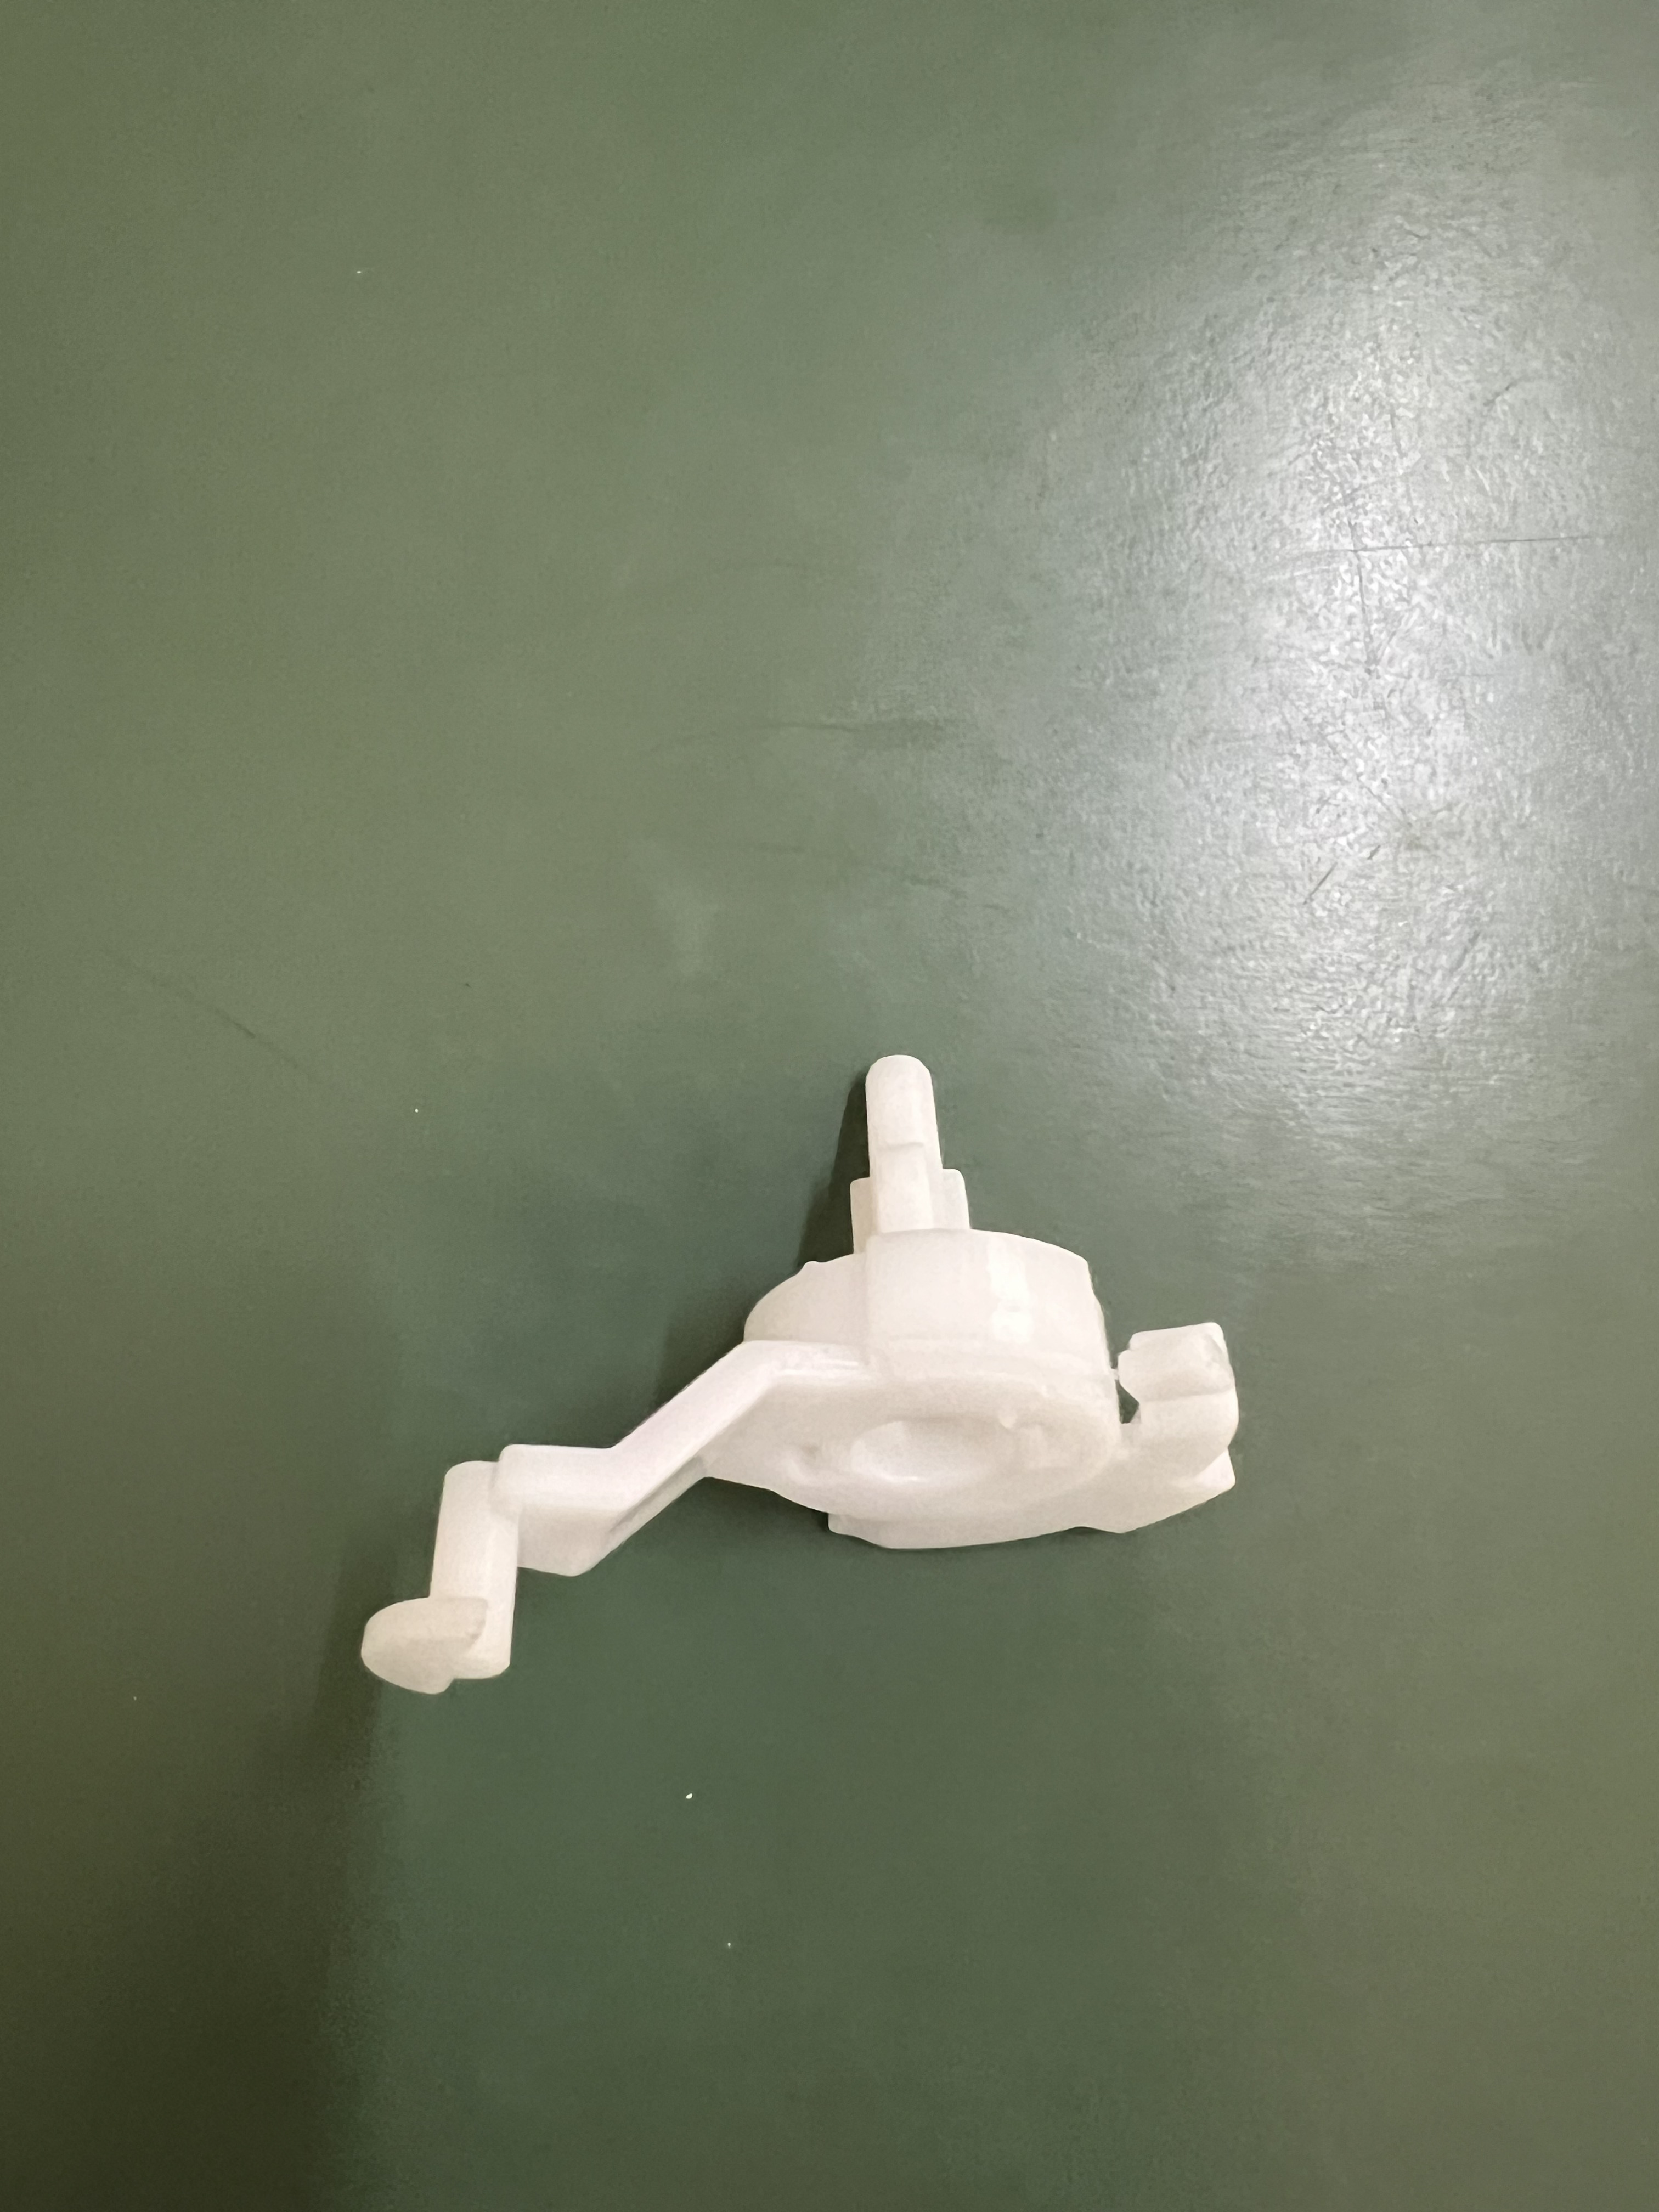drain_lever: (289, 1068, 1283, 1714)
